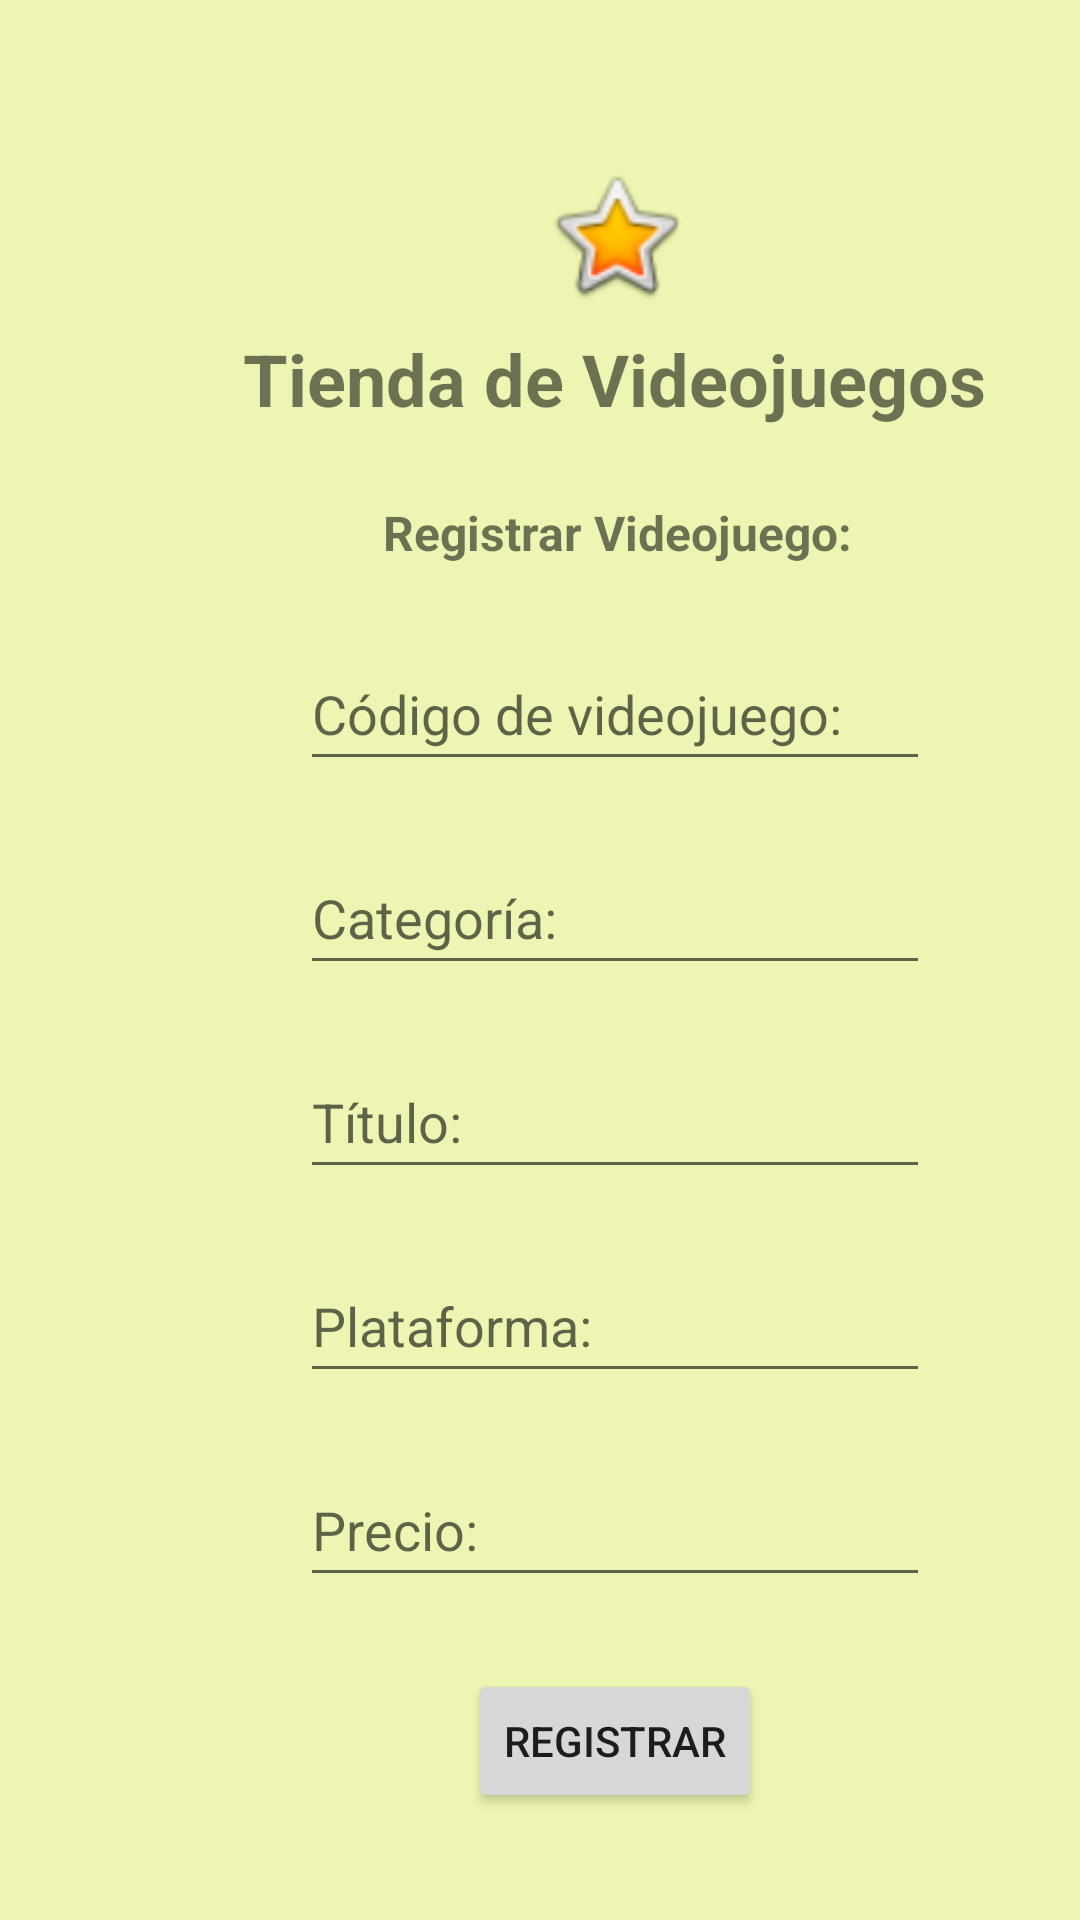

Icons on this 1080*1920 Android screen, each with its box as (x1, y1, x2, y2):
star on: (556, 177, 679, 296)
